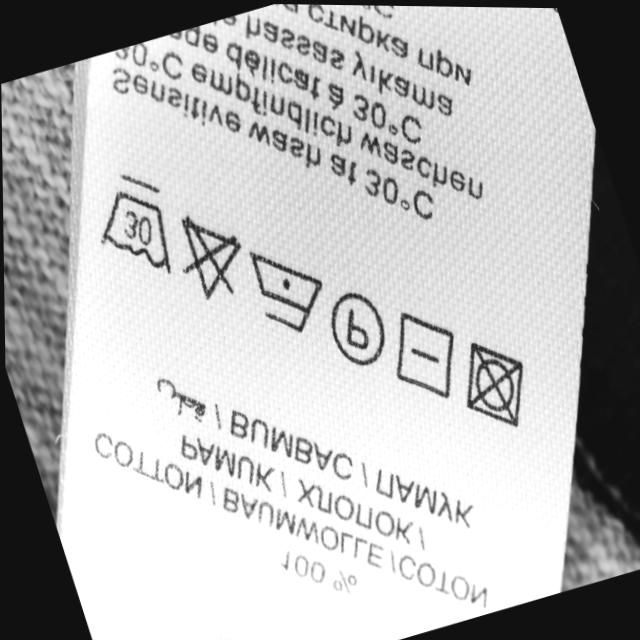30C: (103, 172, 173, 267)
DN_bleach: (178, 221, 246, 298)
DN_tumble_dry: (462, 344, 527, 426)
dry_clean_any_solvent_except_trichloroethylene: (330, 288, 388, 367)
dry_flat: (392, 313, 459, 400)
iron_low: (252, 257, 323, 332)
